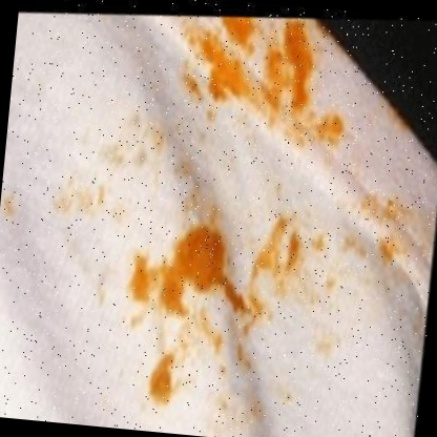kimchi: (79, 162, 419, 436), (191, 78, 350, 154), (198, 7, 319, 89), (90, 101, 222, 173), (0, 168, 98, 239), (163, 19, 201, 86)
